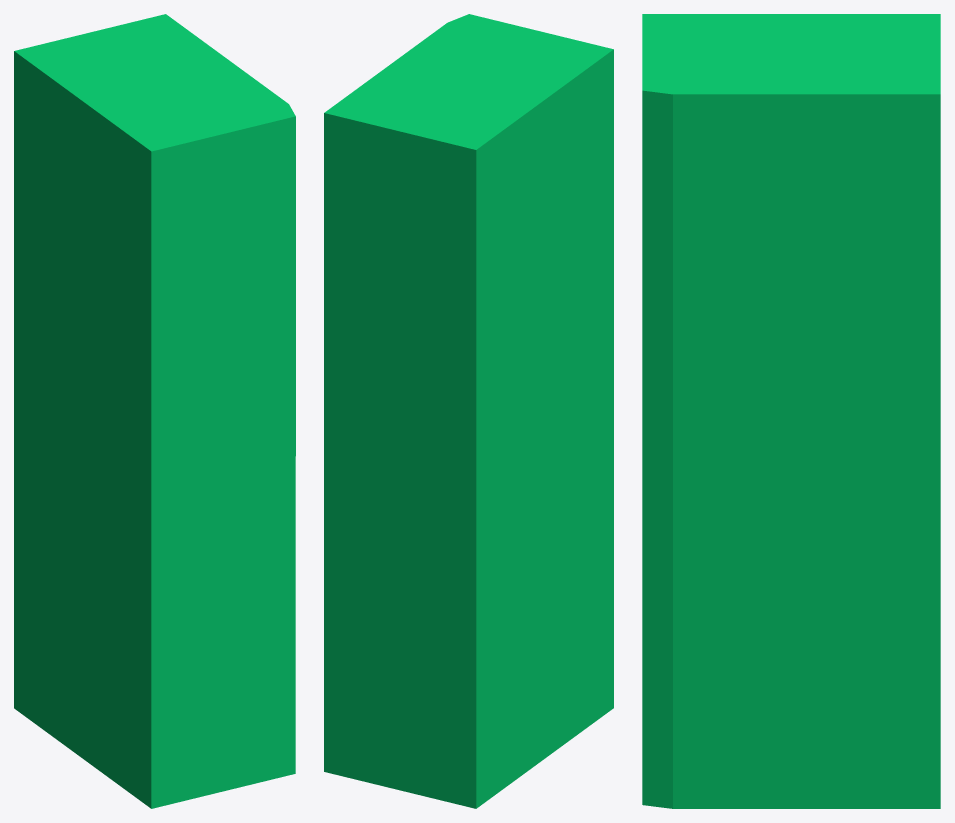
File: simple_example_hole_part_11.obj
The picture shows the model from 3 angles, left to right: view 1: azimuth 30°, elevation 25°; view 2: azimuth 150°, elevation 25°; view 3: azimuth 270°, elevation 25°; orthographic projection. The views are drawn at different scales.
Size of the model in its own units: 17.58 by 72.79 by 27.56.
